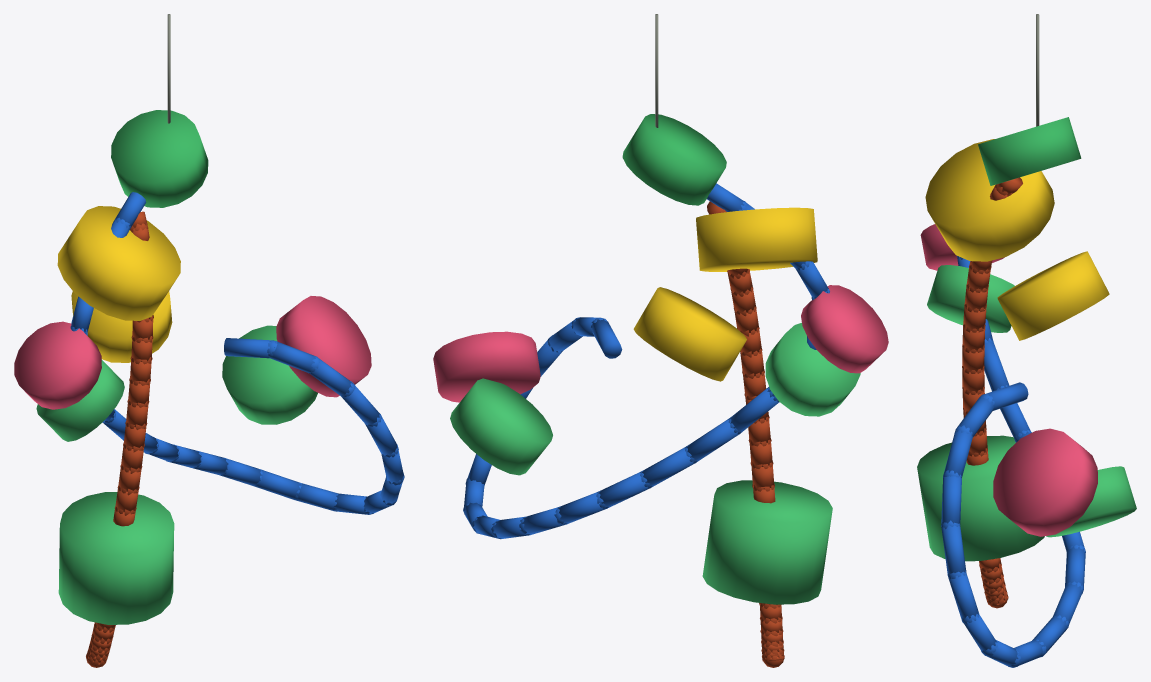
The model's file is movil-color.glb.
The picture shows the model from 3 angles, left to right: view 1: azimuth 30°, elevation 25°; view 2: azimuth 150°, elevation 25°; view 3: azimuth 270°, elevation 25°; orthographic projection. The views are drawn at different scales.
Visible parts, largest first — view 1: world; view 2: world; view 3: world.
Part boxes in pixels (x1,y1,x2,y2): world: (14,14,404,667); world: (433,14,888,667); world: (917,14,1136,667).
Bounding box in the file's own units: 1.17 × 1.78 × 0.5552.
1 material, 1 textured.
